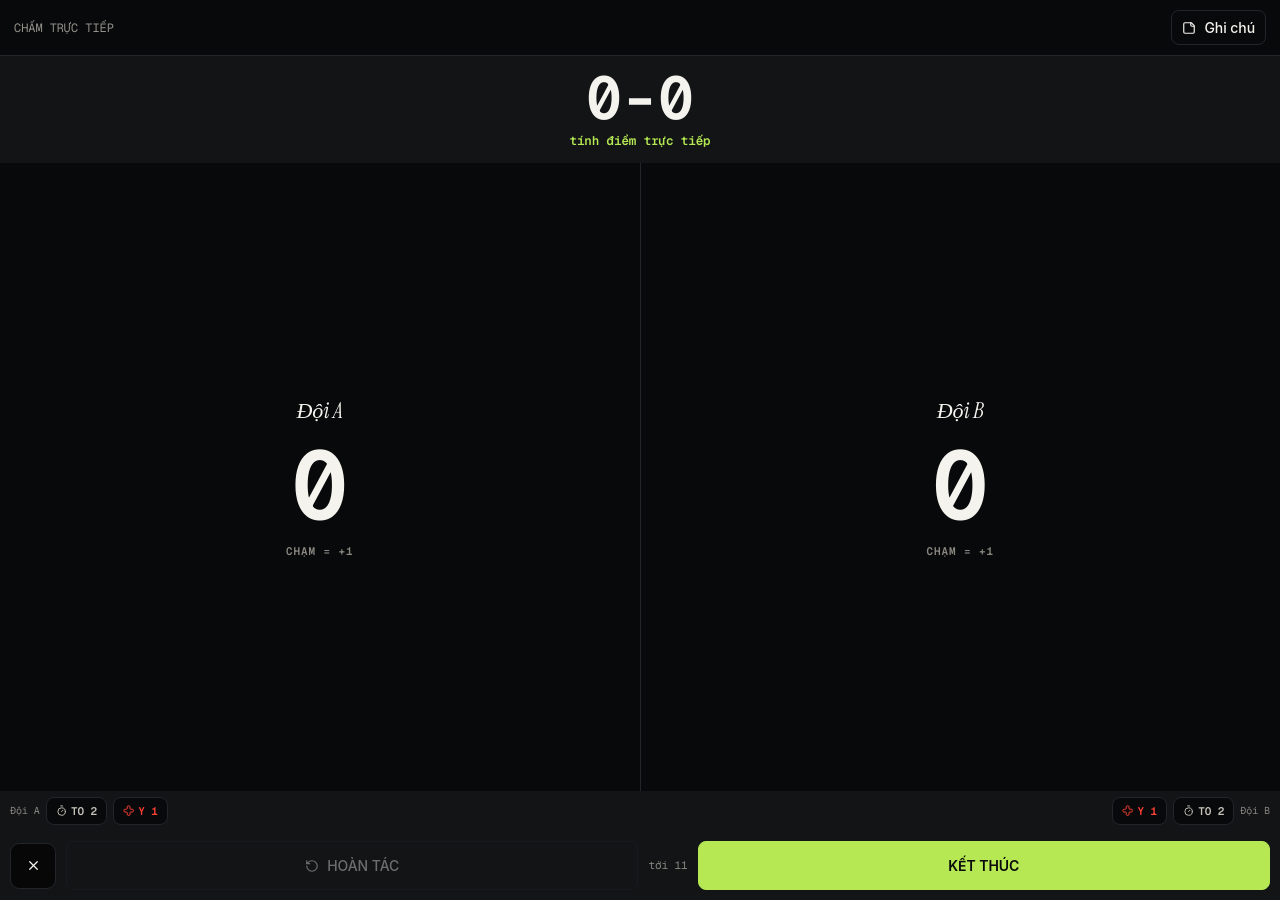
RefereeScoringScreen › tỉ số hoà thì không cho xác nhận
This screenshot has width=1280, height=900.
Click the button "KẾT THÚC". click: (984, 866)
box: left=698, top=841, right=1270, bottom=890
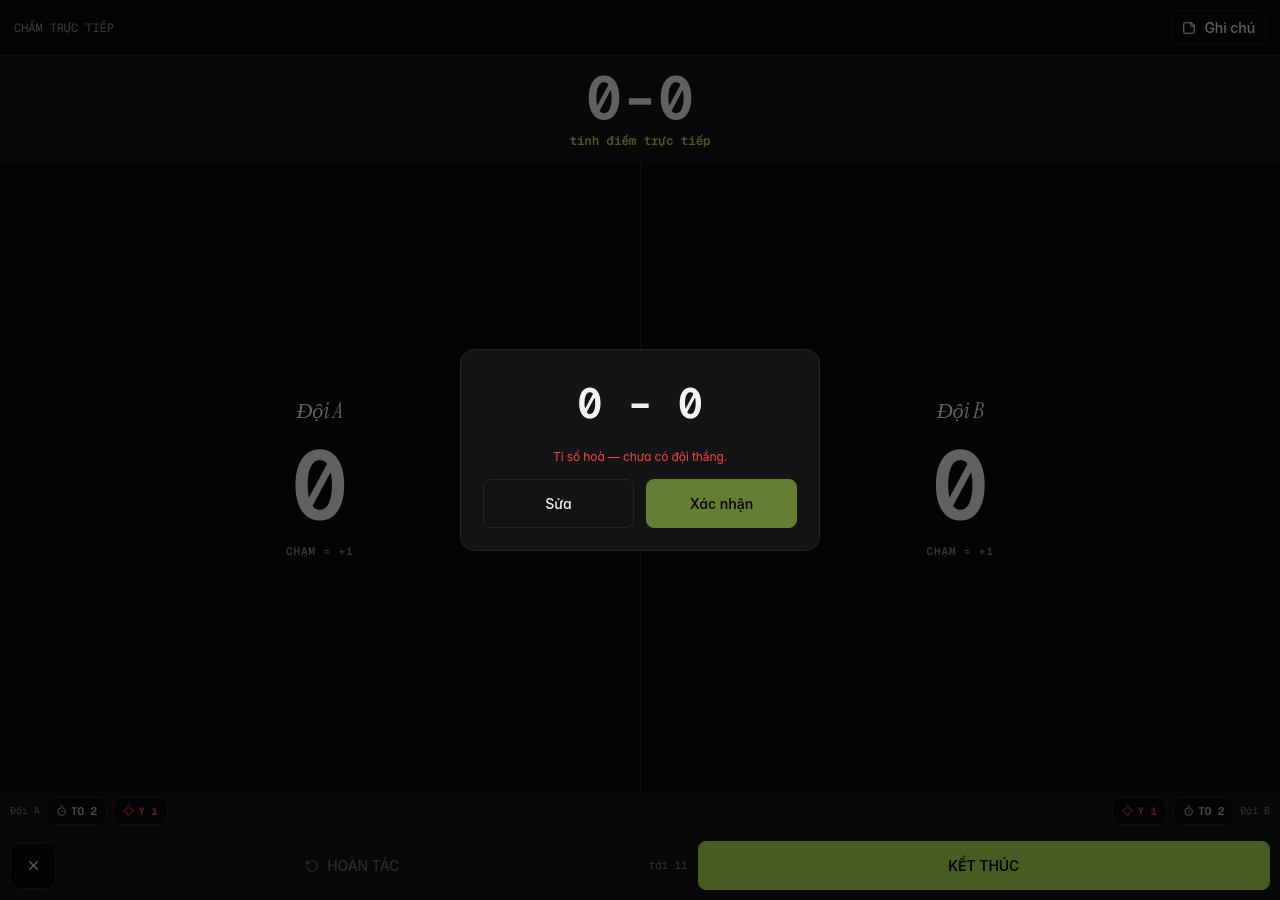
expect the text "Tỉ số hoà — chưa có đội thắng." is shown: met, box left=553, top=448, right=727, bottom=466
expect the button "Xác nhận" is disabled: met, box left=646, top=479, right=797, bottom=528
